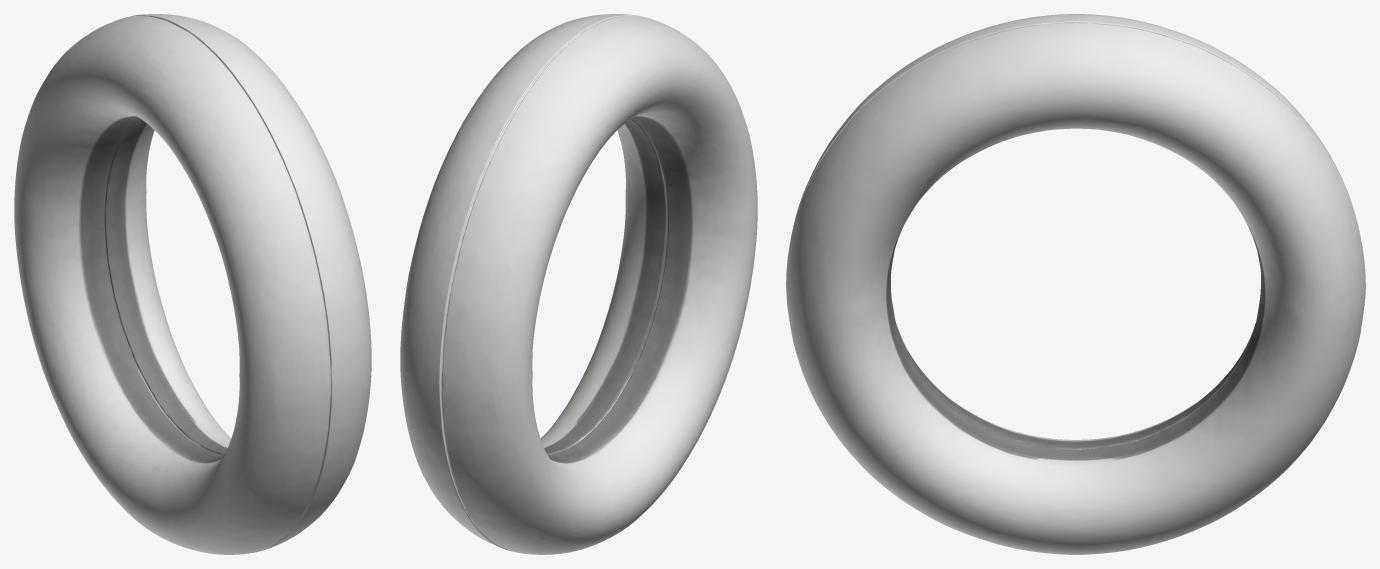
Rendered from ring.glb.
The picture shows the model from 3 angles, left to right: view 1: azimuth 30°, elevation 25°; view 2: azimuth 150°, elevation 25°; view 3: azimuth 270°, elevation 25°; orthographic projection. The views are drawn at different scales.
Visible parts, largest first — view 1: ring; view 2: ring; view 3: ring.
Boxes of the visible parts, x1=… form: ring: x1=14, y1=14, x2=371, y2=554; ring: x1=400, y1=14, x2=757, y2=554; ring: x1=786, y1=14, x2=1365, y2=554.
Size of the model in its own units: 0.2558 by 0.9984 by 1.
Materials: 1 (1 with a texture image).
